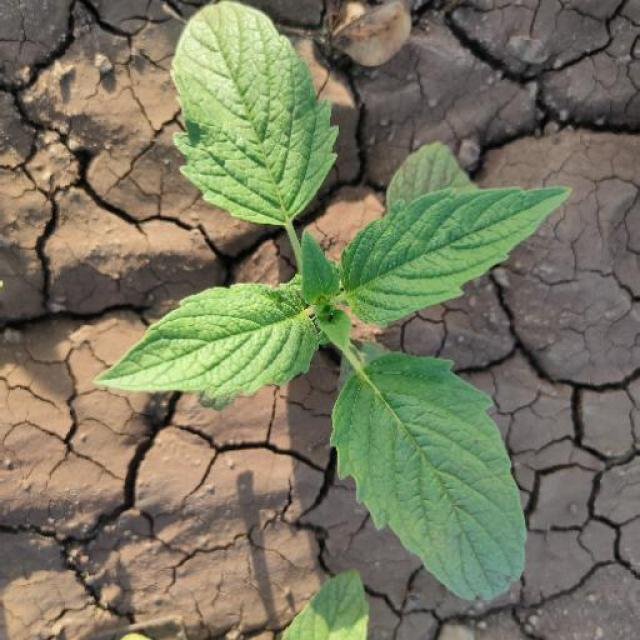crop: (88, 1, 572, 640)
